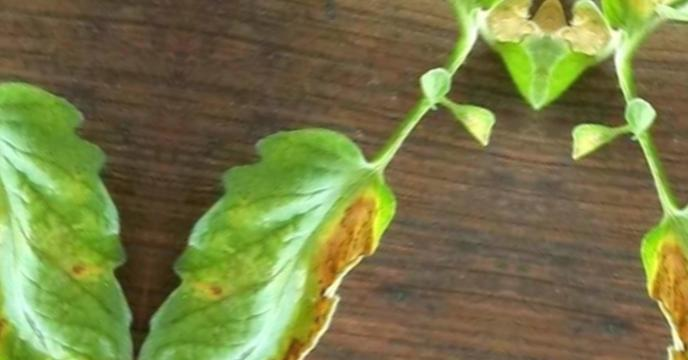Tomato Early blight leaf: (114, 104, 405, 360), (193, 0, 543, 26)
